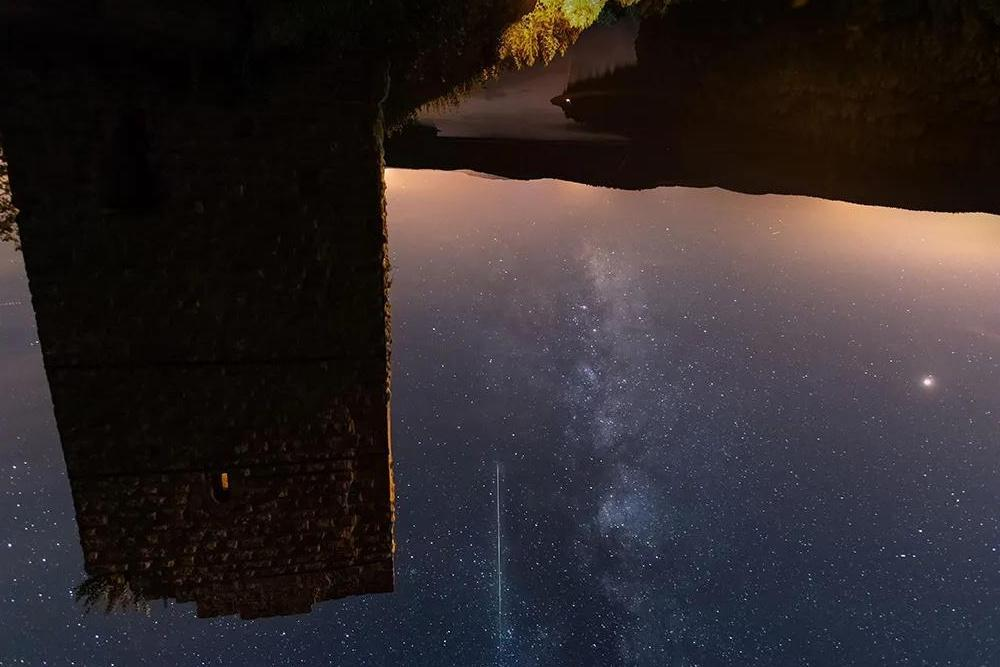meteorite: (486, 462, 509, 642)
